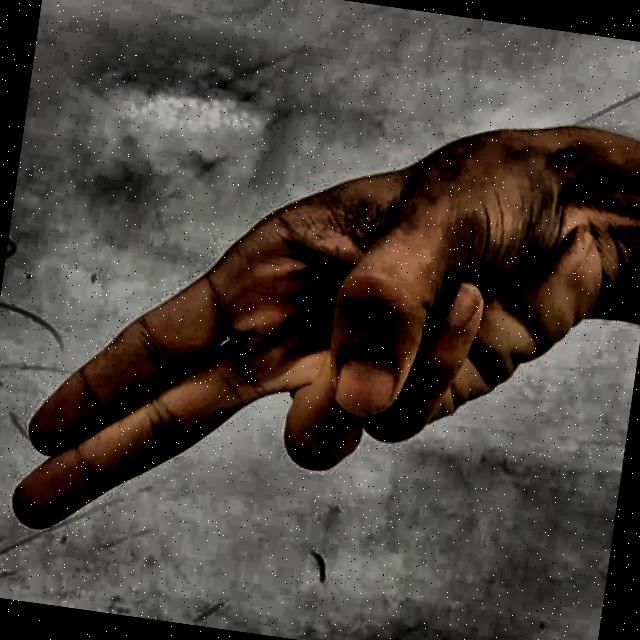Ha: (0, 33, 627, 640)
